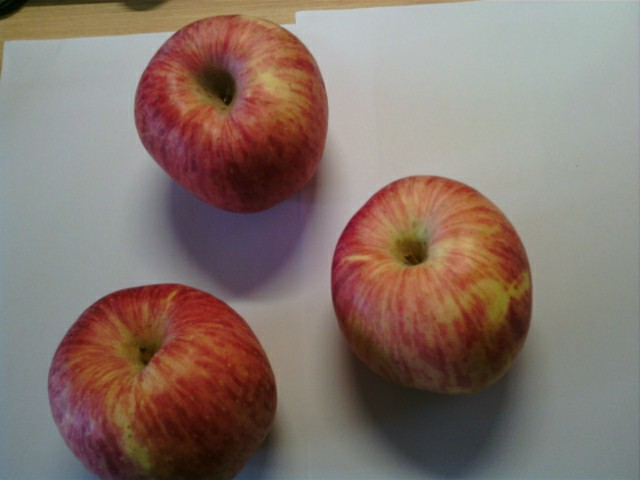normal_apple: (47, 285, 277, 480), (335, 175, 533, 401), (133, 15, 330, 213)
